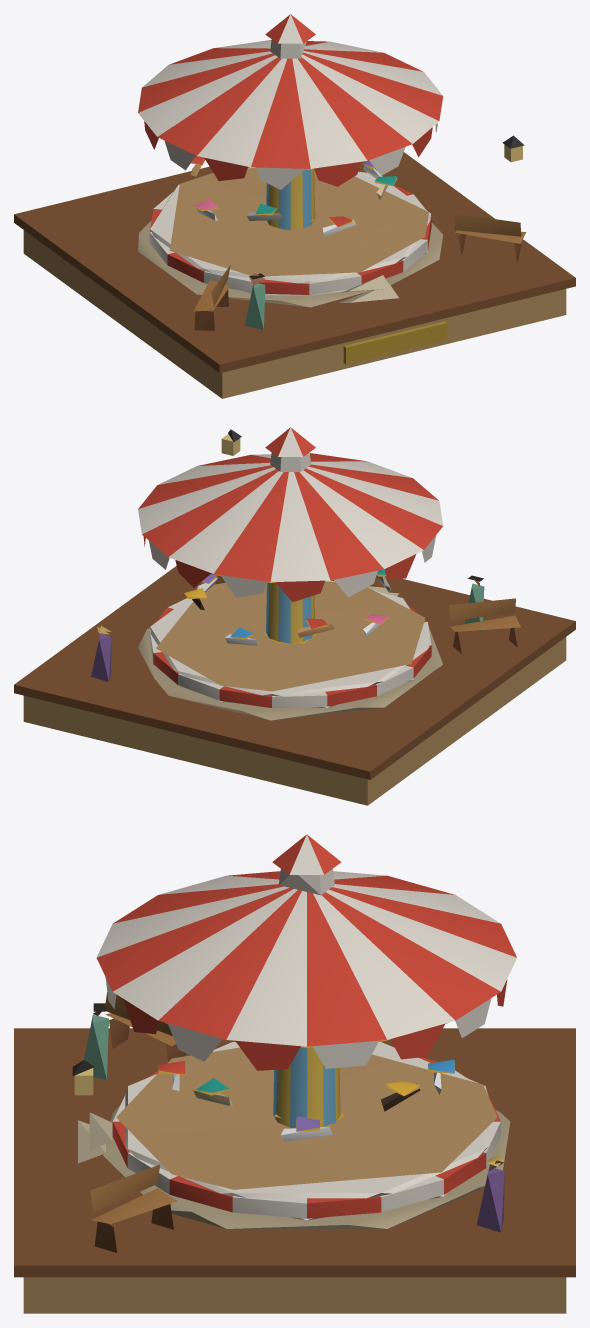
The model's file is village_carousel_souvenir.glb.
The picture shows the model from 3 angles, top to bottom: view 1: azimuth 30°, elevation 25°; view 2: azimuth 150°, elevation 25°; view 3: azimuth 270°, elevation 25°; orthographic projection. The views are drawn at different scales.
Parts seen in each view (by area): view 1: decor-village_carousel_souvenir; view 2: decor-village_carousel_souvenir; view 3: decor-village_carousel_souvenir.
Part boxes in pixels (x1,y1,x2,y2): decor-village_carousel_souvenir: (14, 14, 575, 398); decor-village_carousel_souvenir: (14, 427, 575, 805); decor-village_carousel_souvenir: (14, 834, 575, 1313).
Size of the model in its own units: 1.76 by 1.26 by 1.76.
